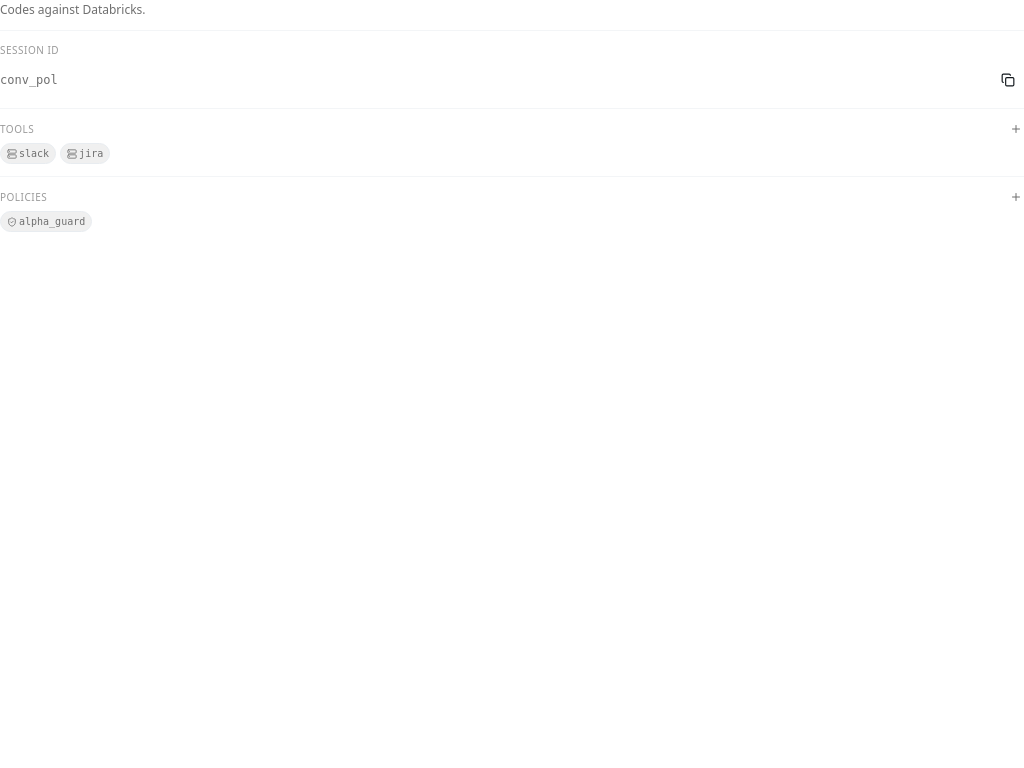
SessionPoliciesSection › shows all registry policies even when already applied
Click the button titled "Add policy".
click(1016, 197)  # box [1008, 189, 1023, 205]
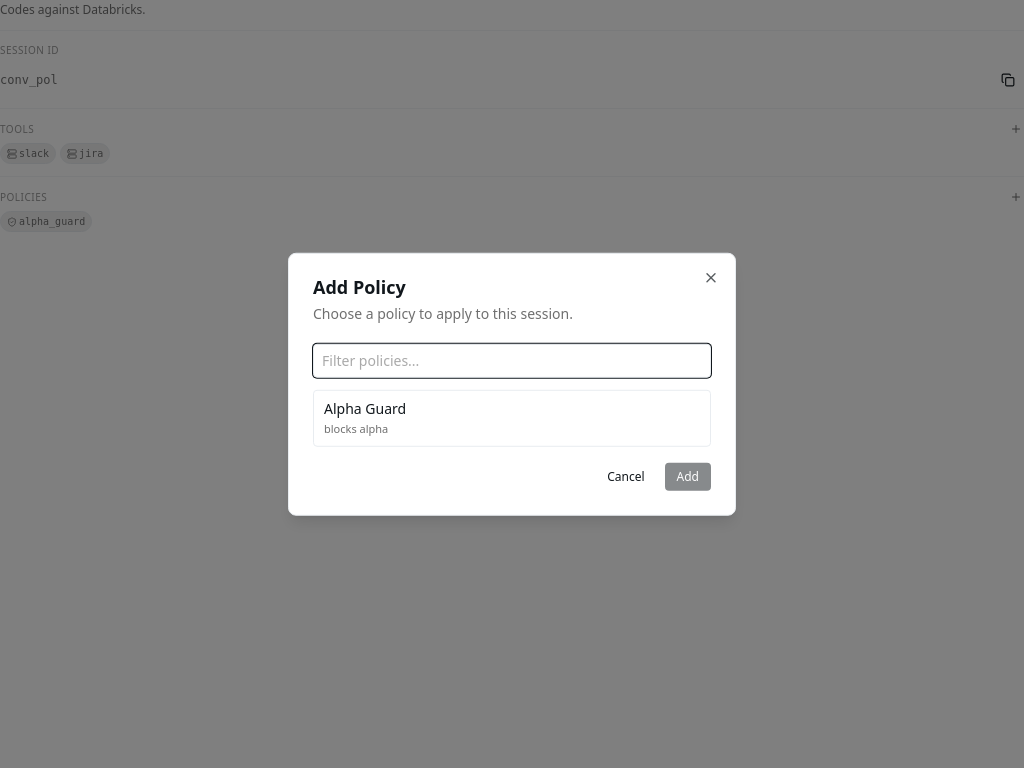
Check: the text "Alpha Guard" is shown, box [324, 399, 406, 419]
